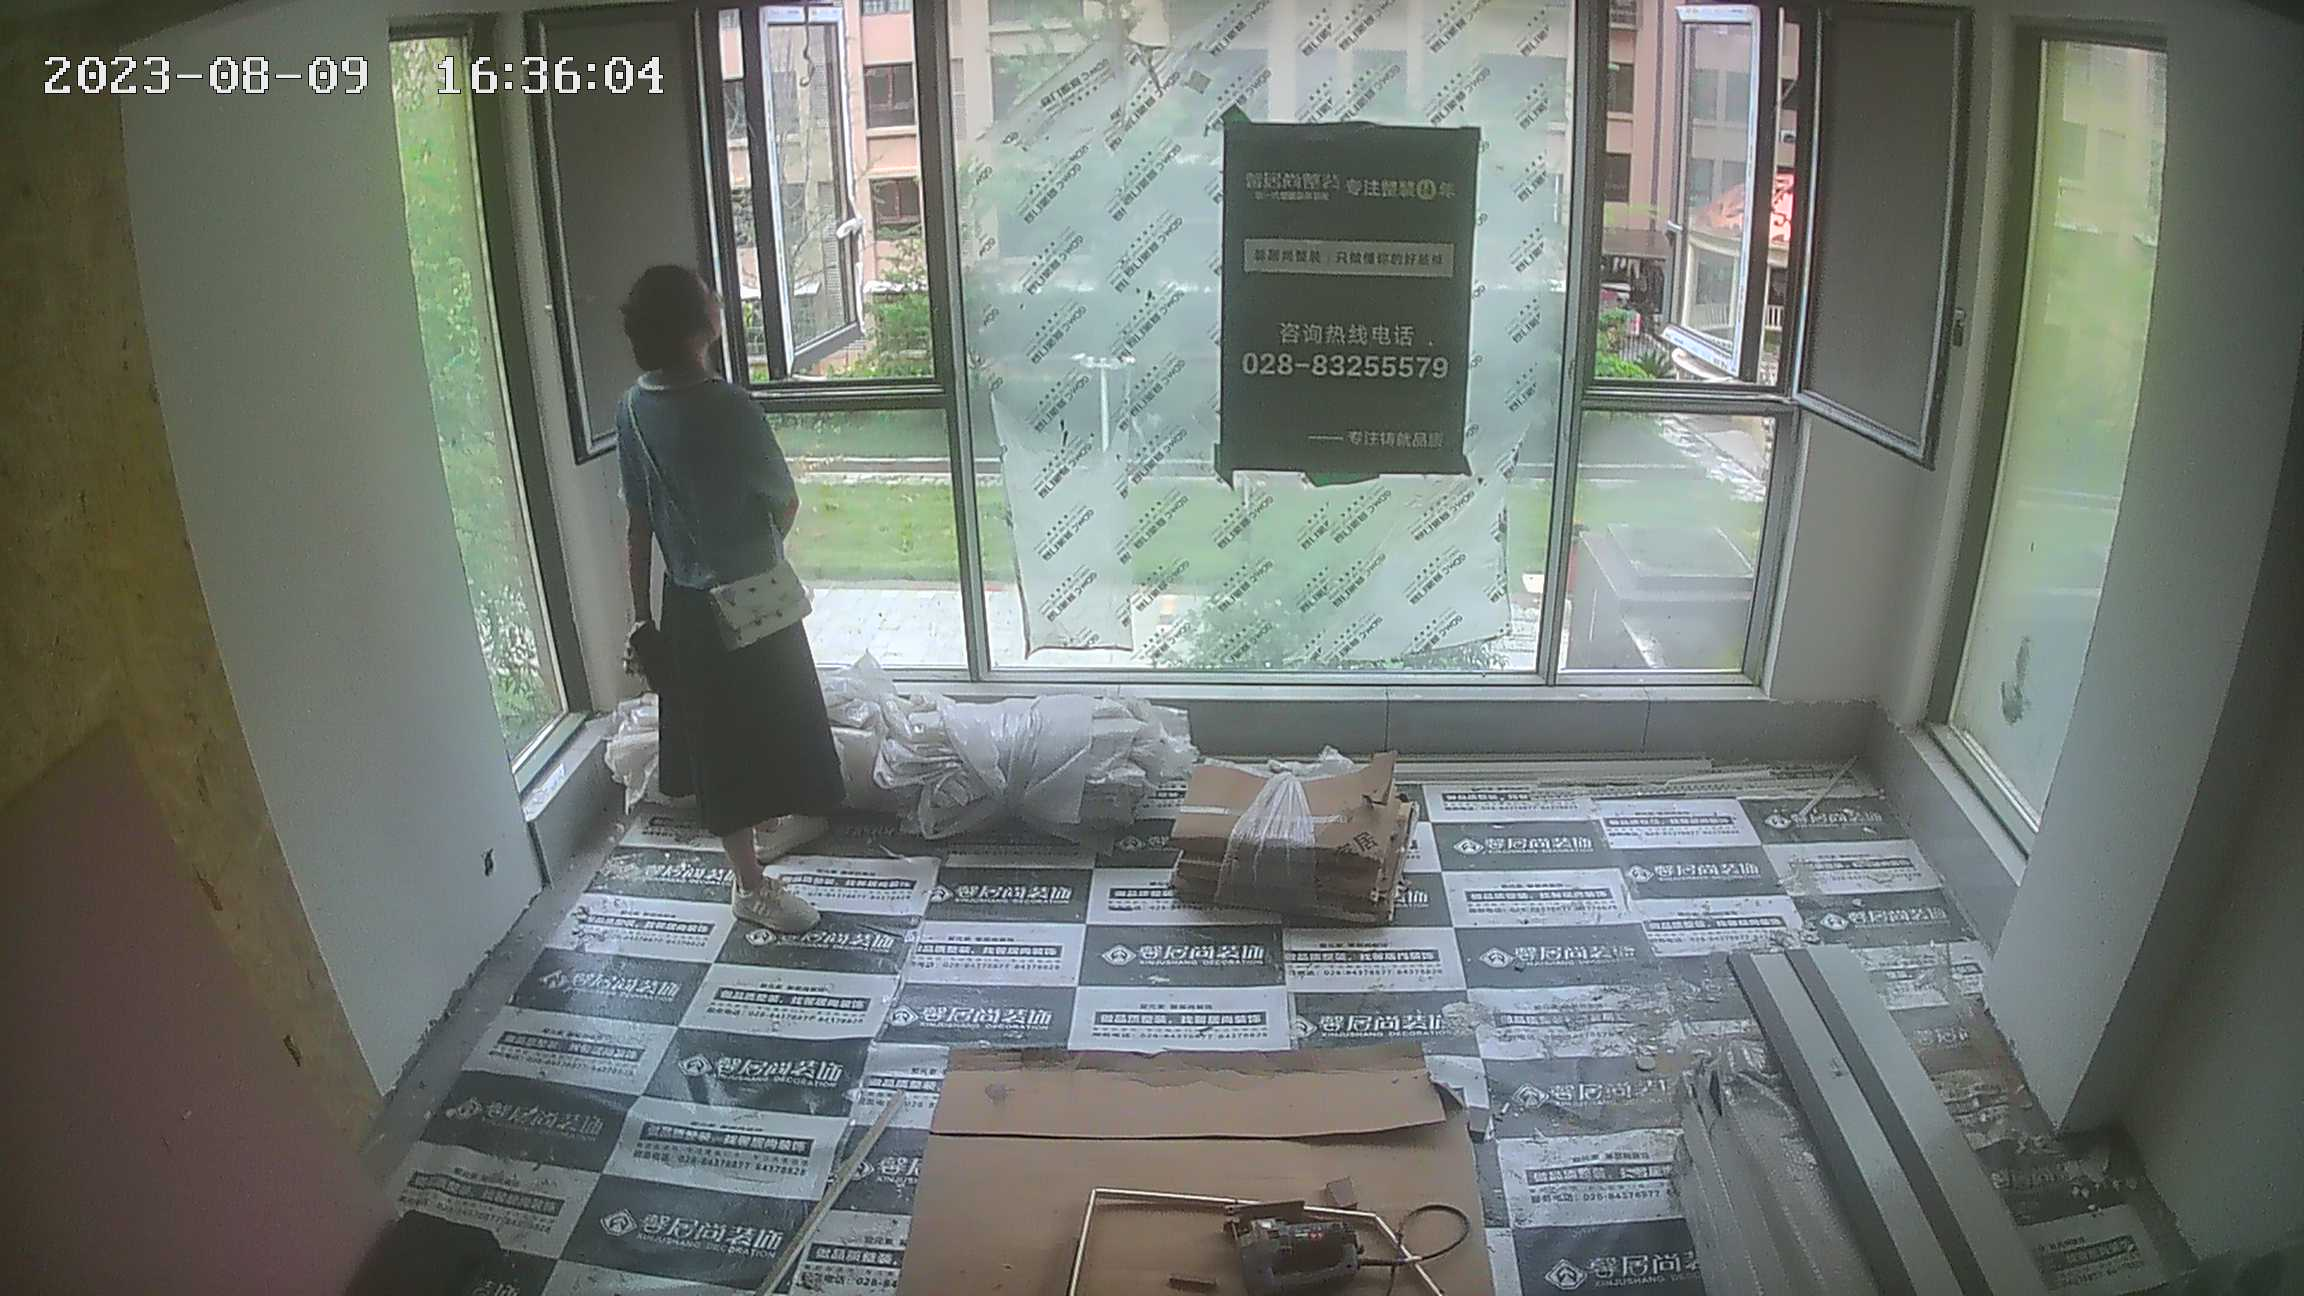people: (613, 262, 840, 936)
window: (700, 1, 1789, 700), (1960, 24, 2168, 880), (384, 28, 585, 797)
